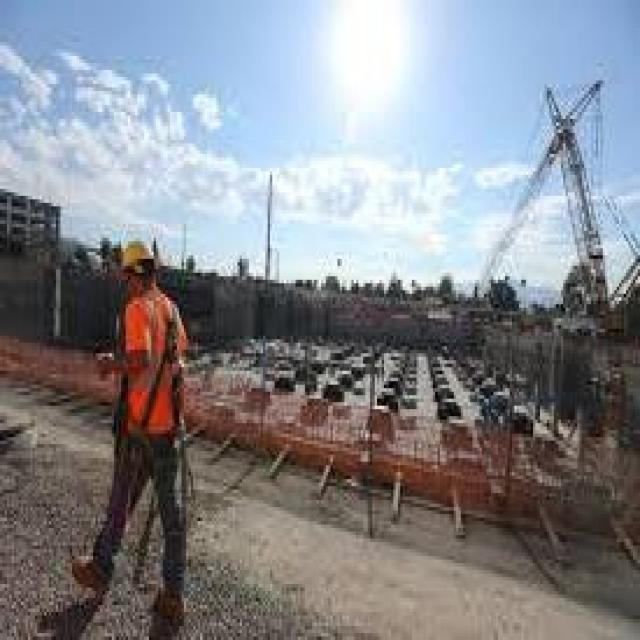Reflective-Jacket: (110, 287, 188, 458)
Safety-Helmet: (110, 231, 166, 290)
